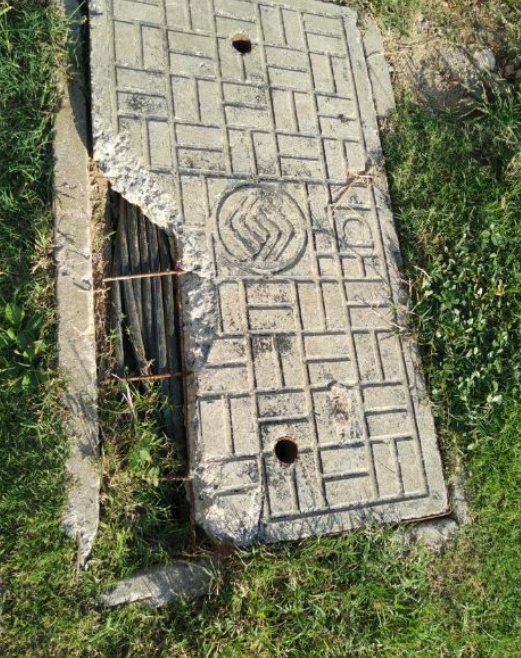broke: (51, 4, 475, 604)
